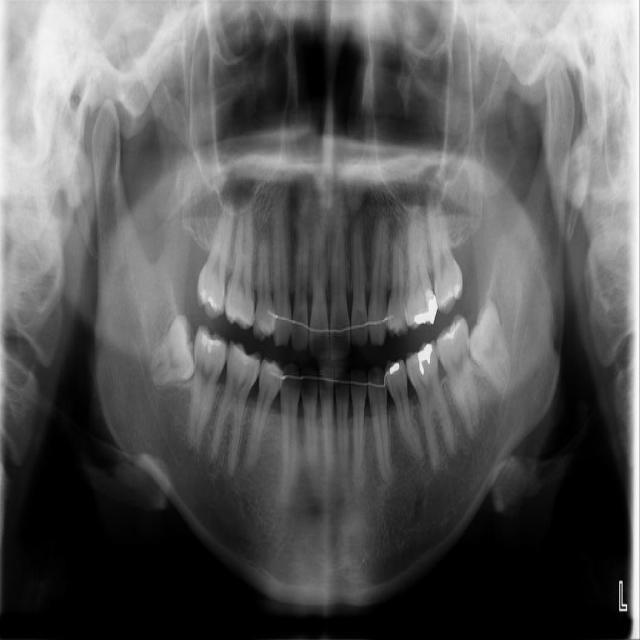52: (398, 283, 443, 332), (402, 339, 443, 390), (382, 358, 411, 409)
73: (615, 592, 621, 598)
BioHorizons Implant: (420, 176, 467, 317)
Biomet 3i Implant: (457, 295, 518, 396)
Blue Sky Bio Implant: (431, 312, 483, 441)
Caries: (193, 198, 236, 322)
Implant: (185, 324, 231, 455)
Keystone Dental Implant: (149, 311, 201, 389)
